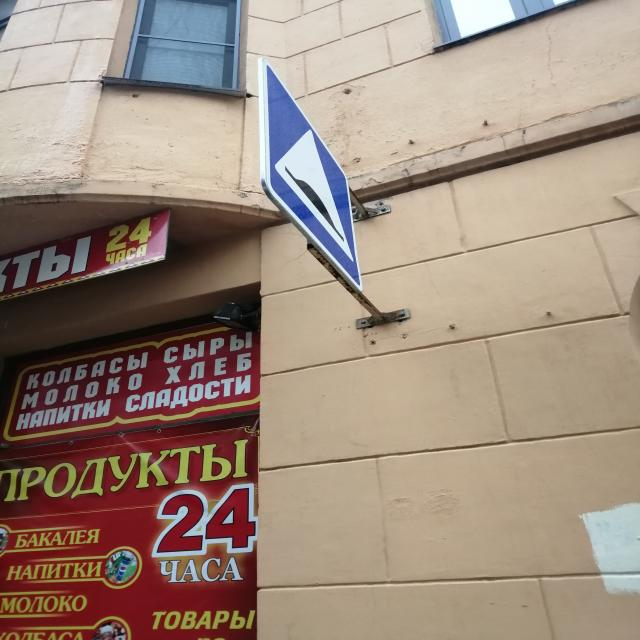road sign: (262, 54, 363, 295)
